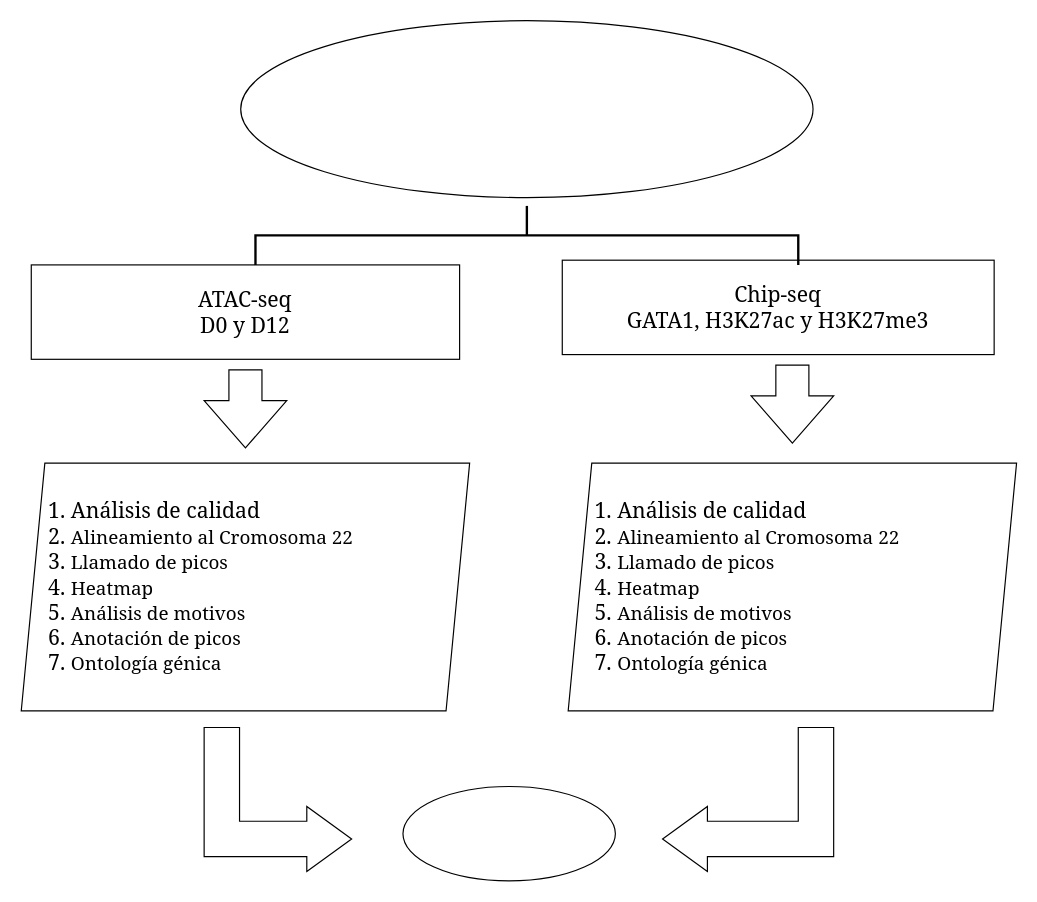
The diagram is 1037 pixels wide and 902 high, and some of its shapes have lost their labels. The centre of each missing label's shape, as x and y in pixels:
"Descargar secuencias de Gene Expression Omnibus" goes at point (526, 108).
"Visualizacion" goes at point (508, 833).
